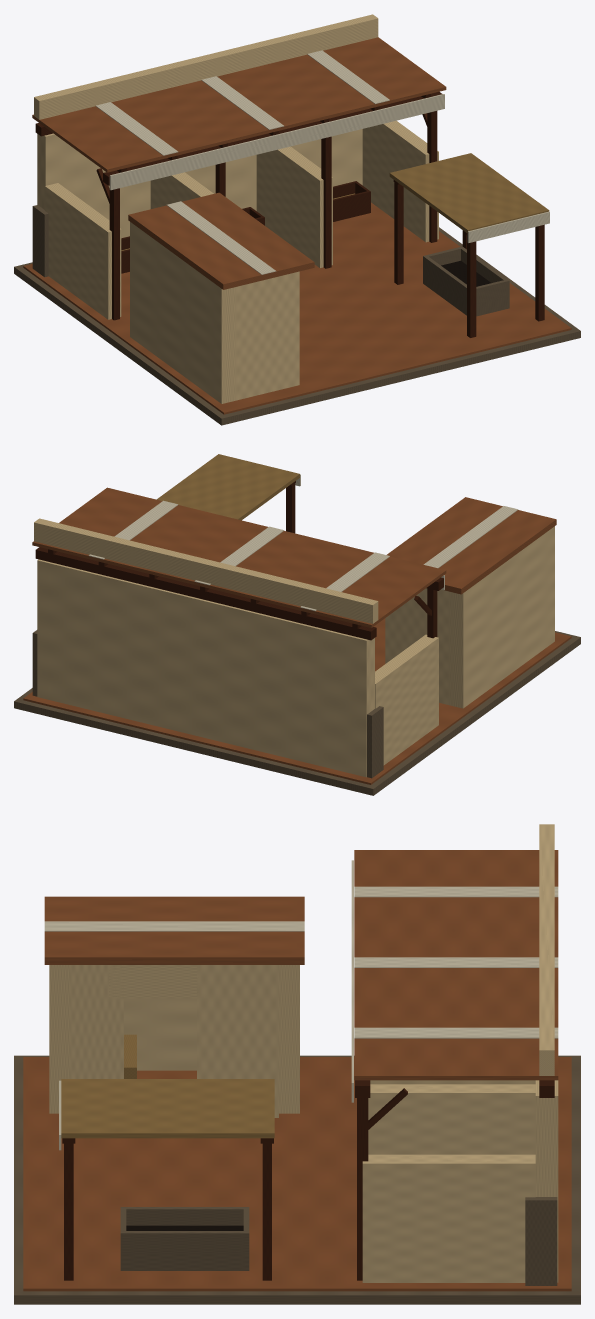
Rendered from Berber_Stable_Age3.fbx.
3 views of the same model, one above another, from view 1: azimuth 30°, elevation 25°; view 2: azimuth 150°, elevation 25°; view 3: azimuth 270°, elevation 25° (orthographic). The views are drawn at different scales.
Visible parts, largest first — view 1: court_floor, stall_roof, tack_west, stall_rear_wall, stall_rear_parapet, tack_roof, tack_south, foundation, water_shade_roof, stall_partition_0, stall_partition_2, owner_stall_valance (+19 smaller); view 2: stall_rear_wall, stall_roof, tack_west, stall_rear_parapet, tack_roof, foundation, stall_partition_0, court_floor, water_shade_roof, stall_rear_beam, tack_north, tack_roof_owner_strip (+6 smaller); view 3: court_floor, stall_roof, stall_partition_3, tack_roof, foundation, water_shade_roof, stall_partition_2, tack_east_back, tack_east_front, tack_west, stall_rear_parapet, tack_north (+17 smaller).
Boxes of the visible parts, x1,y1,x2,y2 form: court_floor: (23, 202, 571, 414); stall_roof: (32, 37, 446, 172); tack_west: (130, 222, 234, 403); stall_rear_wall: (37, 129, 362, 238); stall_rear_parapet: (34, 14, 378, 119); tack_roof: (128, 192, 314, 289); tack_south: (235, 271, 299, 400); foundation: (14, 227, 580, 425); water_shade_roof: (389, 153, 549, 233); stall_partition_0: (45, 183, 121, 319); stall_partition_2: (256, 146, 332, 267); owner_stall_valance: (109, 94, 444, 190); stall_rear_wall: (37, 559, 374, 777); stall_roof: (32, 487, 446, 627); tack_west: (450, 526, 554, 708); stall_rear_parapet: (34, 518, 378, 623); tack_roof: (387, 497, 556, 594); foundation: (14, 631, 580, 795); stall_partition_0: (375, 634, 438, 765); court_floor: (23, 618, 571, 784); water_shade_roof: (156, 454, 299, 520); stall_rear_beam: (35, 547, 376, 640); tack_north: (385, 588, 449, 705); tack_roof_owner_strip: (423, 506, 518, 568); court_floor: (23, 1057, 571, 1291); stall_roof: (354, 850, 558, 1080); stall_partition_3: (362, 1154, 535, 1282); tack_roof: (44, 896, 304, 964); foundation: (14, 1055, 580, 1304); water_shade_roof: (61, 1079, 274, 1138); stall_partition_2: (368, 1084, 535, 1154); tack_east_back: (197, 965, 278, 1117); tack_east_front: (70, 965, 123, 1078); tack_west: (124, 998, 196, 1070); stall_rear_parapet: (539, 824, 554, 1075); tack_north: (279, 965, 299, 1113).
Bounding box in the file's own units: 600 × 289 × 600.
Materials: 8 (8 with a texture image).
